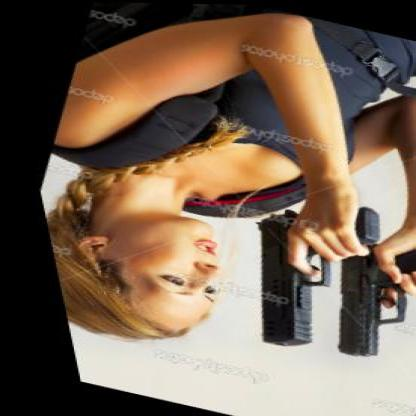pistol: (182, 181, 400, 361), (268, 221, 412, 374)
